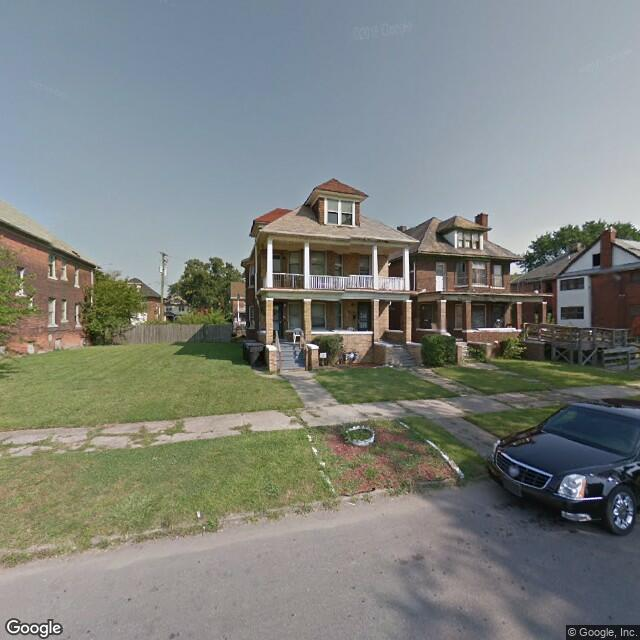litter: (186, 506, 209, 518)
